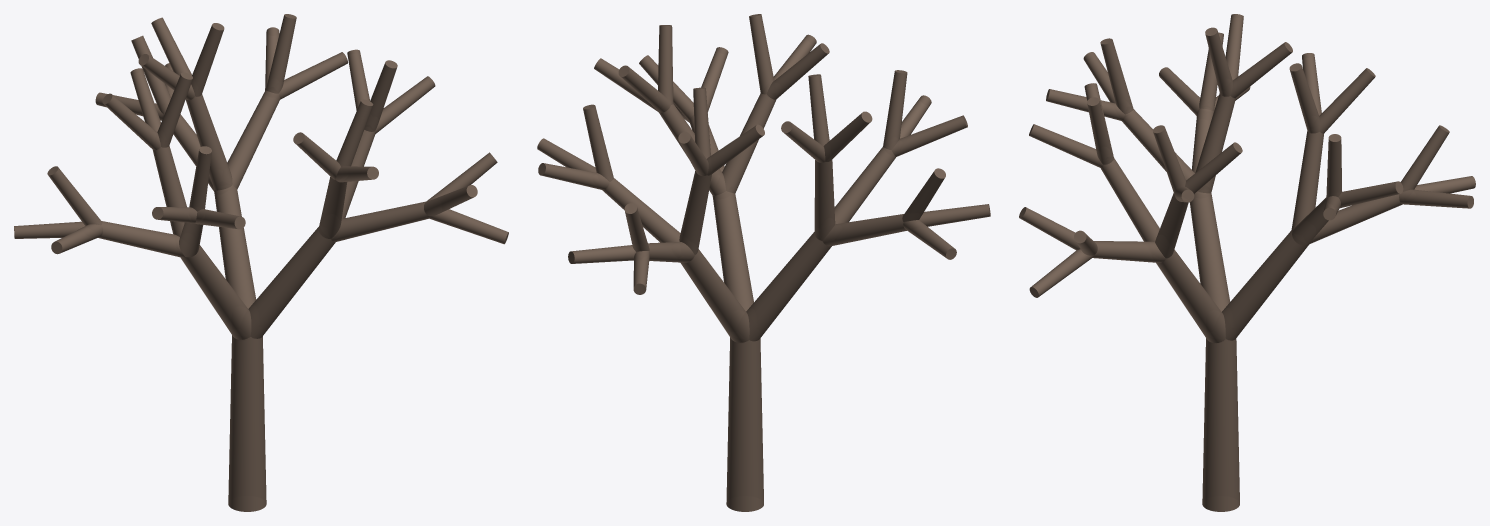
Rendered from fractaltree3.glb.
3 views of the same model, side by side, from view 1: azimuth 30°, elevation 25°; view 2: azimuth 150°, elevation 25°; view 3: azimuth 270°, elevation 25° (orthographic).
Bounding box in the file's own units: 8.33 × 8.91 × 8.33.
